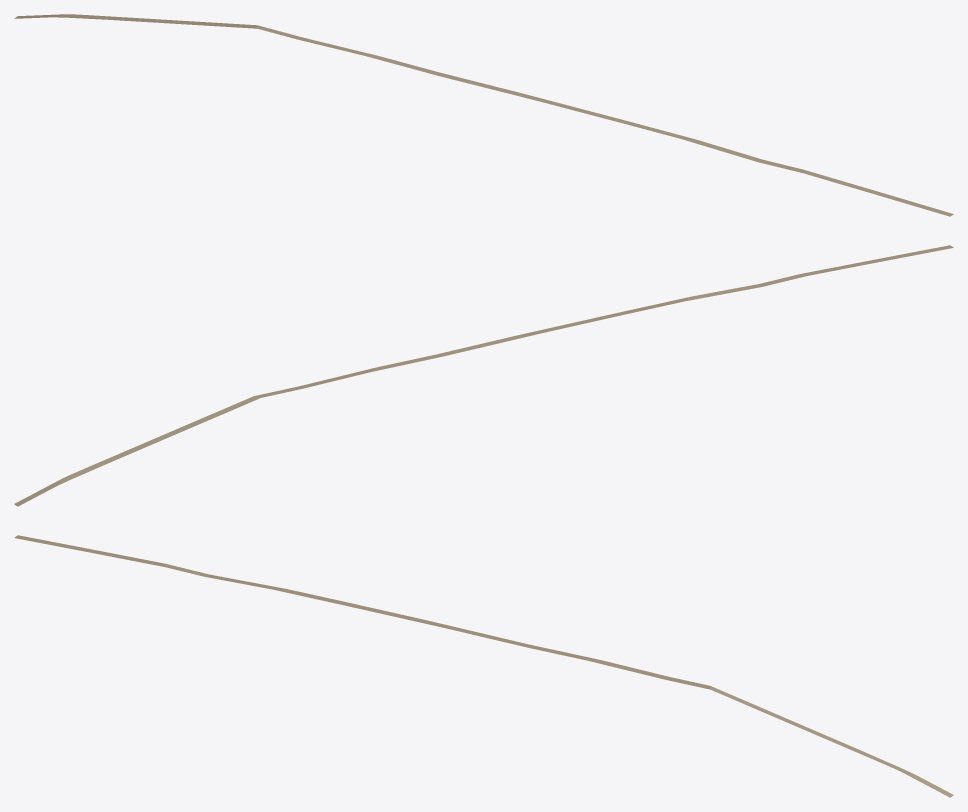
Rendered from farm_1_-1_track.glb.
3 views of the same model, one above another, from view 1: azimuth 90°, elevation 25°; view 2: azimuth 150°, elevation 25°; view 3: azimuth 270°, elevation 25° (orthographic).
Visible parts, largest first — view 1: geometry_0; view 2: geometry_0; view 3: geometry_0.
Boxes of the visible parts, x1,y1,x2,y2 form: geometry_0: [14, 14, 953, 216]; geometry_0: [14, 245, 953, 506]; geometry_0: [14, 535, 953, 797].
Bounding box in the file's own units: 241 × 24.11 × 413.
